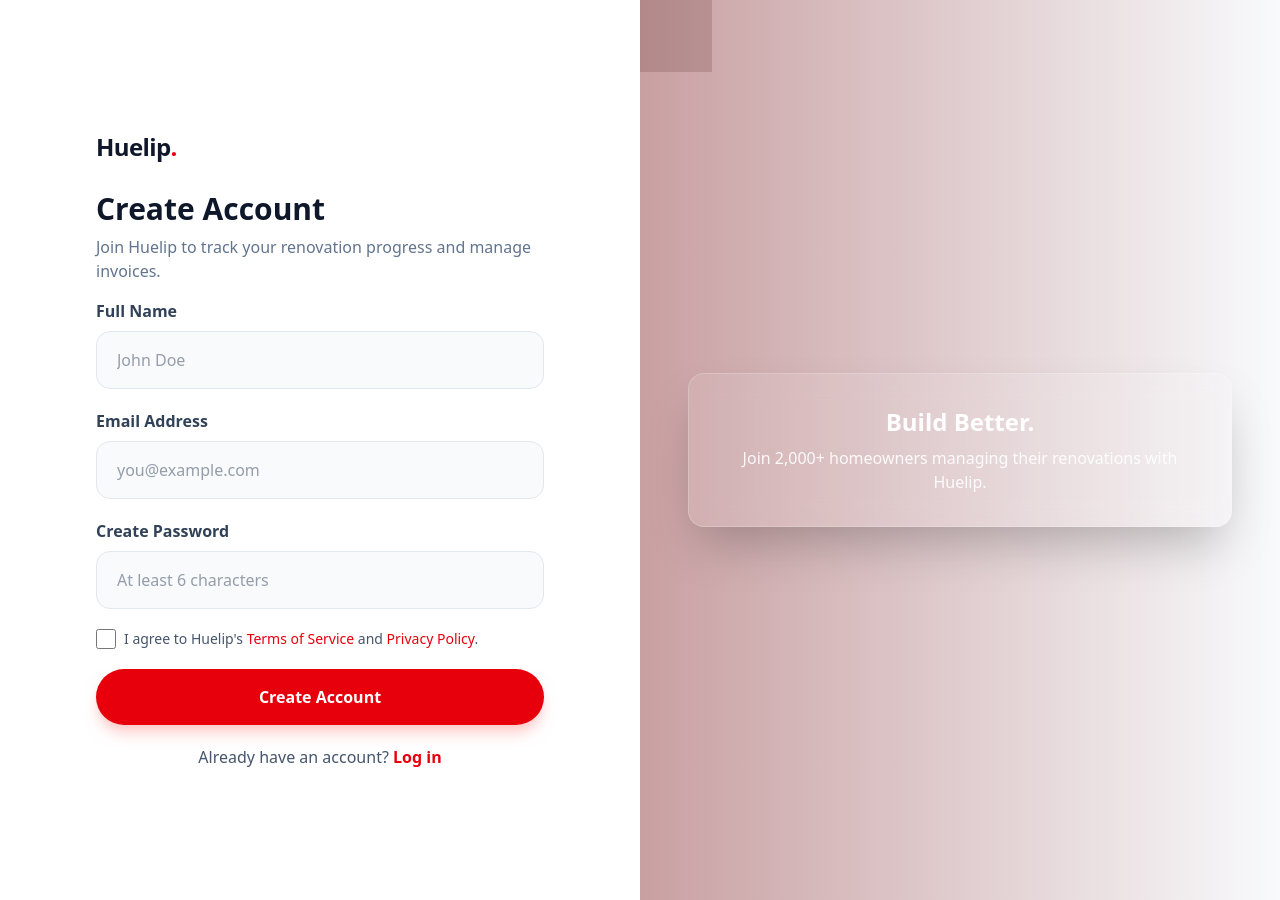
Test: Signup Page › Form Validation › should show error when name is empty
Focus and blur without entering anything
Click the field labelled "Full Name" at (320, 360), box [96,331,544,389]
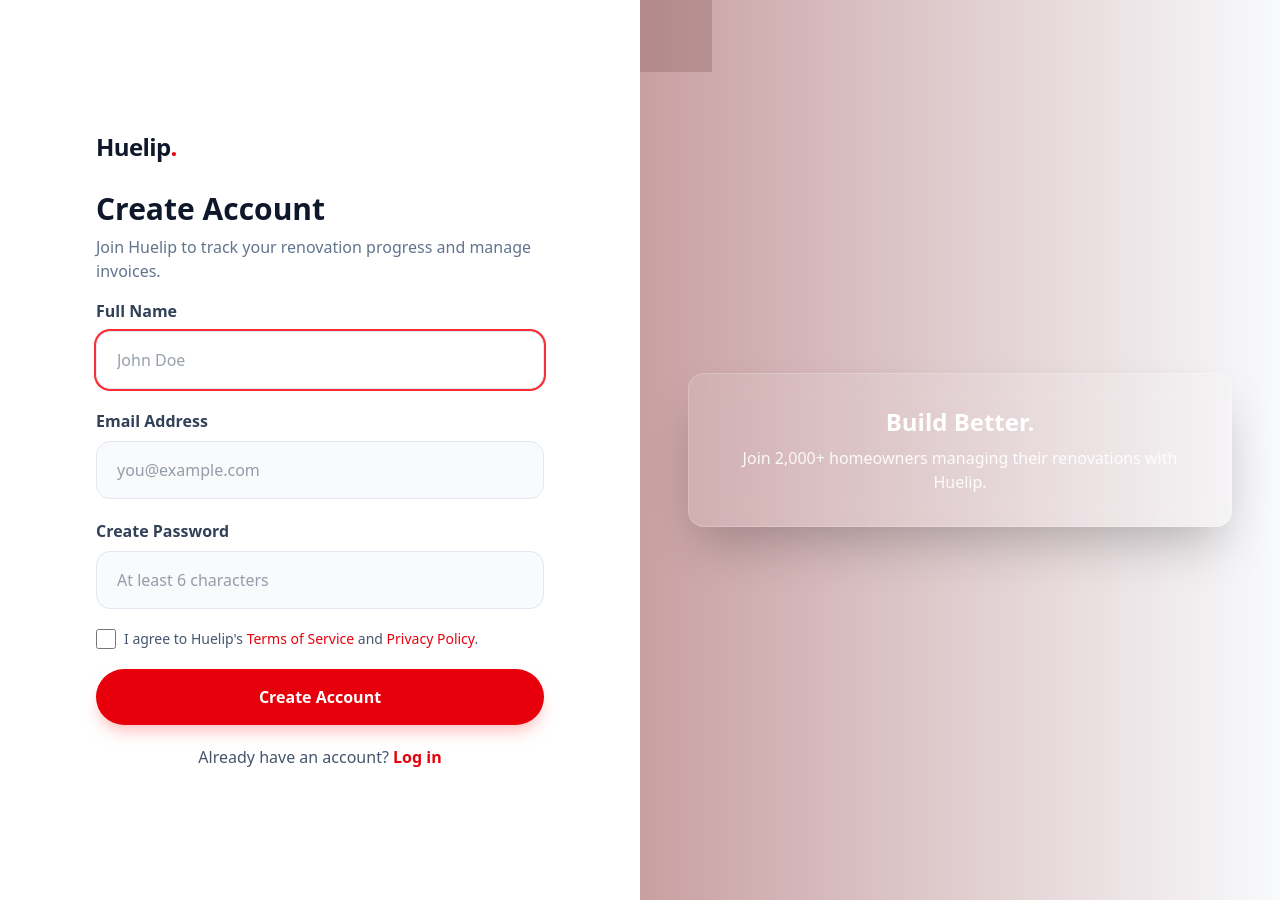
Press Tab
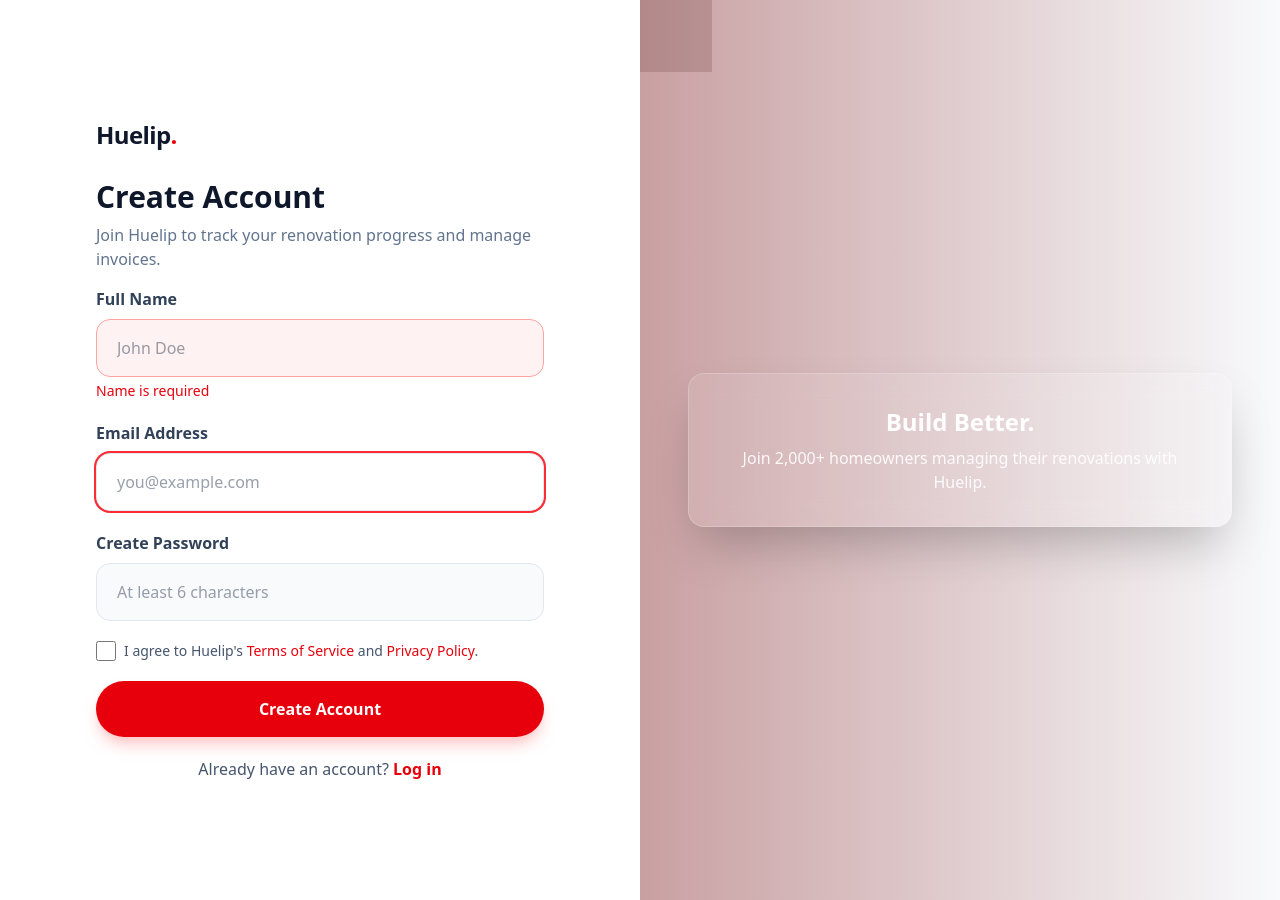
Check: the text "Name is required" is shown, box [96,381,209,400]
